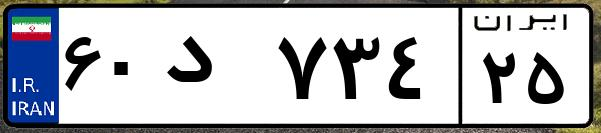0: (110, 28, 158, 98)
2: (475, 38, 525, 113)
3: (330, 28, 385, 110)
4: (385, 28, 445, 110)
5: (525, 38, 570, 115)
6: (57, 26, 110, 100)
7: (270, 28, 330, 110)
د: (158, 20, 270, 120)
